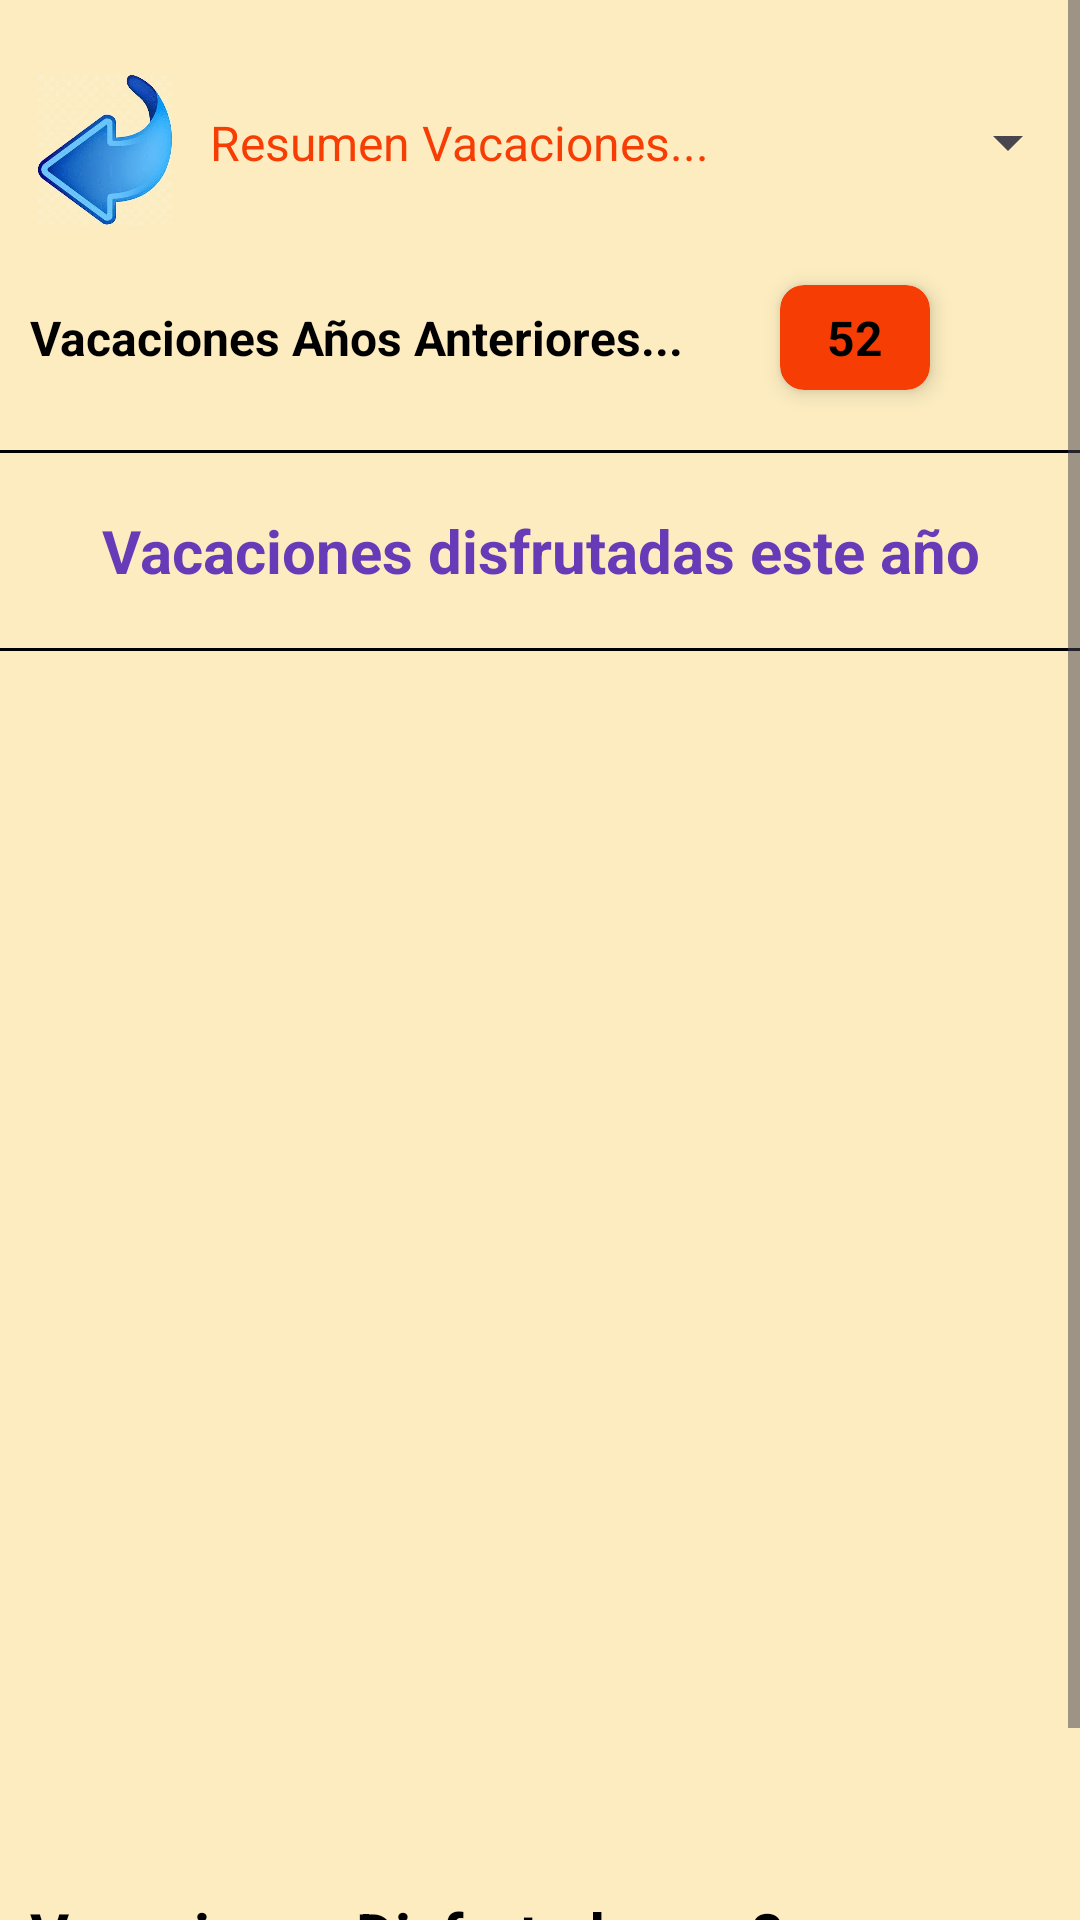

Icon click points for this 1080 x 1920 phone screenshot, format (x=x, y=y):
atras: (x=105, y=150)
